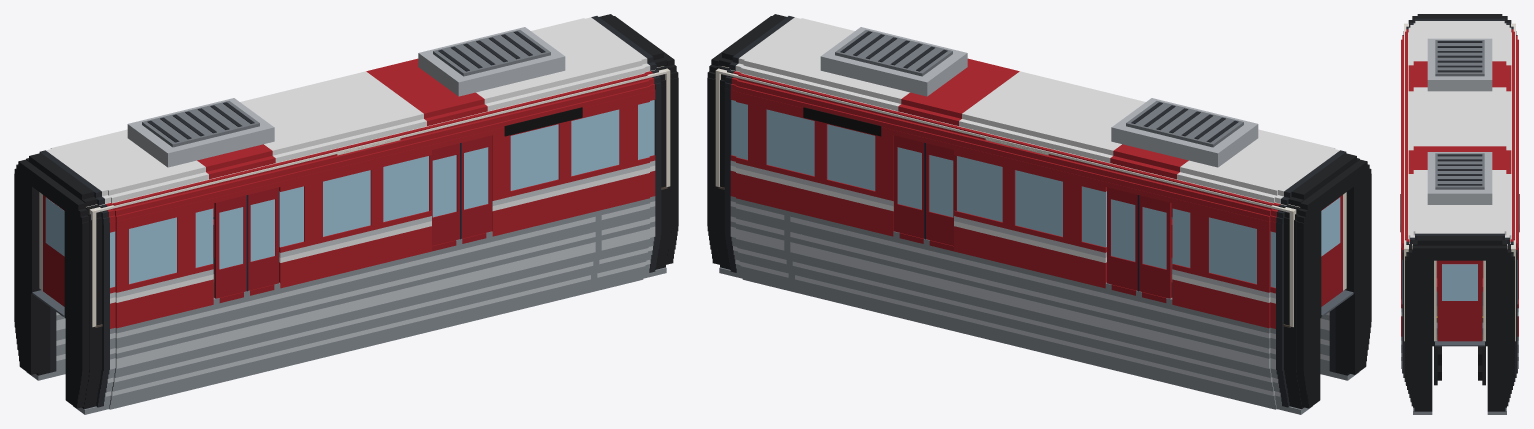
Rendered from seattle_car.obj.
3 views of the same model, side by side, from view 1: azimuth 30°, elevation 25°; view 2: azimuth 150°, elevation 25°; view 3: azimuth 270°, elevation 25° (orthographic). The views are drawn at different scales.
Parts seen in each view (by area): view 1: SHELL, SHELL_roof, SHELL_diaphragm, EXTERNAL_DOOR_4_CG_DR1_TOGGLE_TL_-0.59_X, EXTERNAL_DOOR_11_CG_DR2_TOGGLE_TL_0.59_X, EXTERNAL_DOOR_10_CG_DR2_TOGGLE_TL_-0.59_X, EXTERNAL_DOOR_5_CG_DR1_TOGGLE_TL_0.59_X, SHELL_ceiling, CONNECTING_DOOR_1_CG_CR_TOGGLE_TL_0.98_Z, SHELL_end, SHELL_sign; view 2: SHELL, SHELL_roof, SHELL_diaphragm, EXTERNAL_DOOR_7_CG_DL1_TOGGLE_TL_-0.59_X, EXTERNAL_DOOR_14_CG_DL2_TOGGLE_TL_0.59_X, EXTERNAL_DOOR_13_CG_DL2_TOGGLE_TL_-0.59_X, EXTERNAL_DOOR_8_CG_DL1_TOGGLE_TL_0.59_X, SHELL_ceiling, CONNECTING_DOOR_1_CG_CR_TOGGLE_TL_0.98_Z, SHELL_end, SHELL_sign; view 3: SHELL, SHELL_diaphragm, SHELL_roof, CONNECTING_DOOR_2_CG_CF_TOGGLE_TL_0.98_Z, SHELL_ceiling, SHELL_end, BOGEY_FRONT, SHELL_gangway, FLOOR.
Boxes of the visible parts, box(x1,y1,x2,y2) form: SHELL: box(26, 14, 671, 414); SHELL_roof: box(127, 27, 565, 167); SHELL_diaphragm: box(14, 16, 678, 408); EXTERNAL_DOOR_4_CG_DR1_TOGGLE_TL_-0.59_X: box(214, 195, 248, 298); EXTERNAL_DOOR_11_CG_DR2_TOGGLE_TL_0.59_X: box(461, 135, 492, 238); EXTERNAL_DOOR_10_CG_DR2_TOGGLE_TL_-0.59_X: box(429, 143, 461, 245); EXTERNAL_DOOR_5_CG_DR1_TOGGLE_TL_0.59_X: box(248, 187, 278, 290); SHELL_ceiling: box(89, 67, 666, 212); CONNECTING_DOOR_1_CG_CR_TOGGLE_TL_0.98_Z: box(43, 195, 64, 306); SHELL_end: box(39, 66, 670, 327); SHELL_sign: box(504, 107, 582, 136); SHELL: box(714, 14, 1359, 414); SHELL_roof: box(820, 27, 1258, 167); SHELL_diaphragm: box(707, 16, 1371, 408); EXTERNAL_DOOR_7_CG_DL1_TOGGLE_TL_-0.59_X: box(1137, 195, 1171, 298); EXTERNAL_DOOR_14_CG_DL2_TOGGLE_TL_0.59_X: box(893, 135, 924, 238); EXTERNAL_DOOR_13_CG_DL2_TOGGLE_TL_-0.59_X: box(924, 143, 956, 245); EXTERNAL_DOOR_8_CG_DL1_TOGGLE_TL_0.59_X: box(1107, 187, 1137, 290); SHELL_ceiling: box(718, 67, 1296, 212); CONNECTING_DOOR_1_CG_CR_TOGGLE_TL_0.98_Z: box(1321, 195, 1342, 306); SHELL_end: box(715, 66, 1346, 327); SHELL_sign: box(803, 107, 881, 136); SHELL: box(1401, 14, 1518, 414); SHELL_diaphragm: box(1405, 16, 1514, 411); SHELL_roof: box(1427, 38, 1492, 204); CONNECTING_DOOR_2_CG_CF_TOGGLE_TL_0.98_Z: box(1437, 260, 1482, 341); SHELL_ceiling: box(1404, 24, 1515, 247); SHELL_end: box(1404, 23, 1515, 341); BOGEY_FRONT: box(1434, 346, 1485, 385); SHELL_gangway: box(1435, 339, 1484, 345); FLOOR: box(1435, 306, 1484, 346).
Bounding box in the file's own units: 12.32 × 4.65 × 2.66.
1 material, 1 textured.
